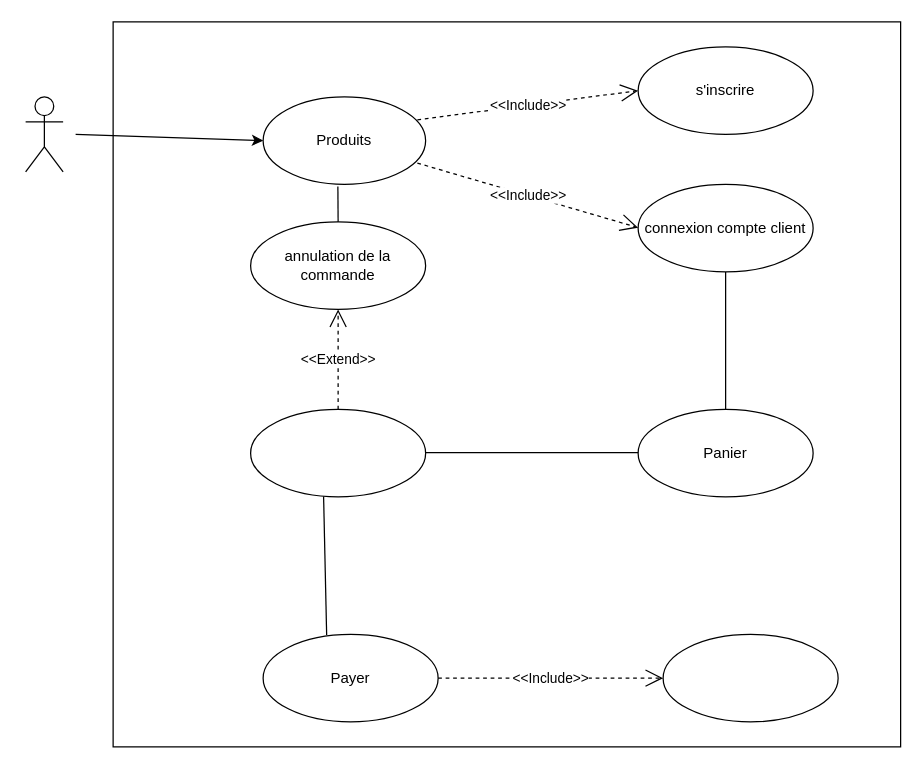
Image size: 923x769. Some labels were removed from this diagram. Here are the shapes that lost their labels. From the top down, the centre of each, then its label:
At (x=43, y=134): "Clients".
At (x=337, y=452): "commande".
At (x=750, y=677): "bon de livraison".
